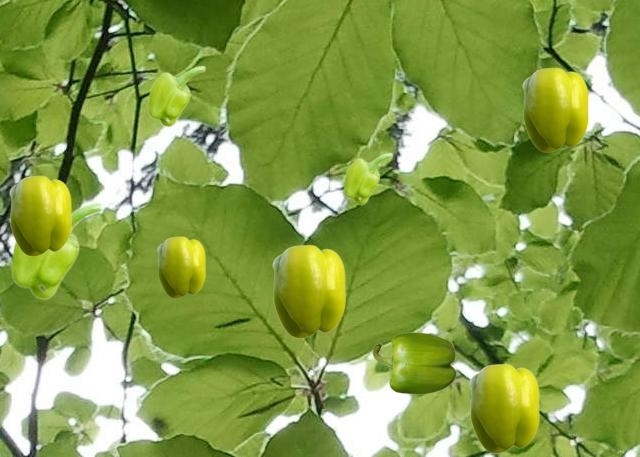bell_pepper: (10, 201, 103, 299), (272, 244, 344, 337), (469, 363, 538, 452), (522, 67, 587, 151), (372, 332, 455, 393), (9, 175, 70, 255), (147, 65, 205, 126), (157, 236, 204, 297), (343, 152, 392, 204)
